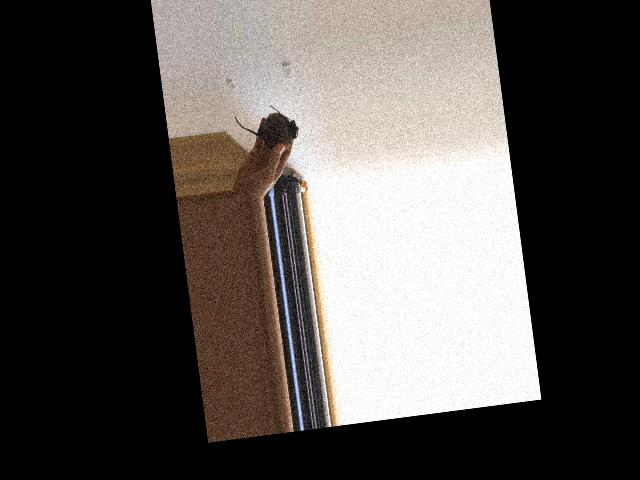beet: (233, 101, 301, 157)
